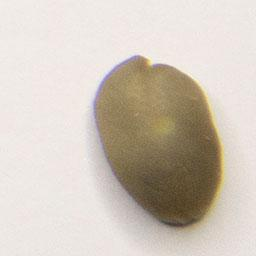premium: (89, 52, 228, 231)
